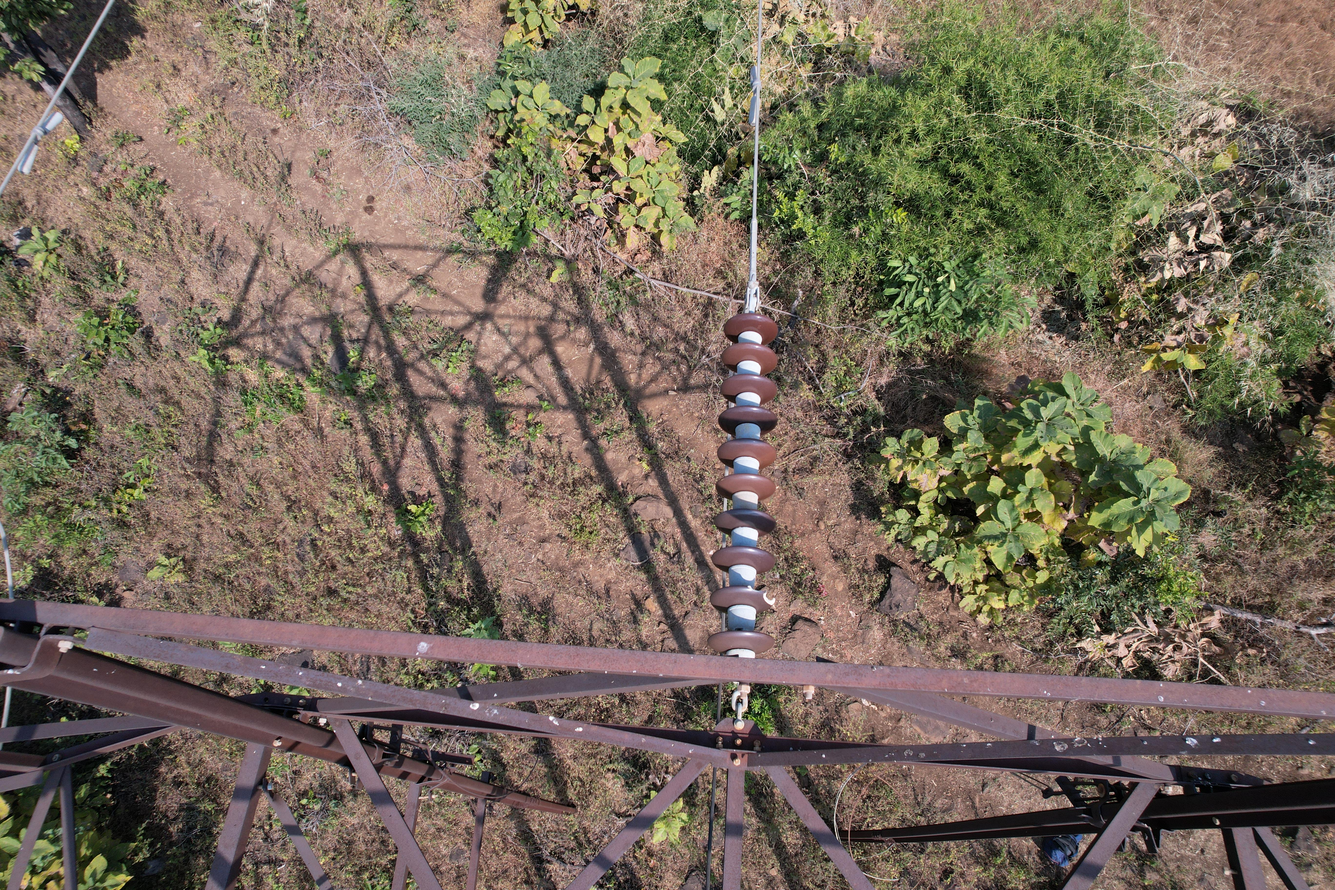broken_insulator: (706, 577, 782, 621)
